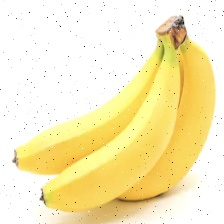banana: (26, 27, 178, 213)
